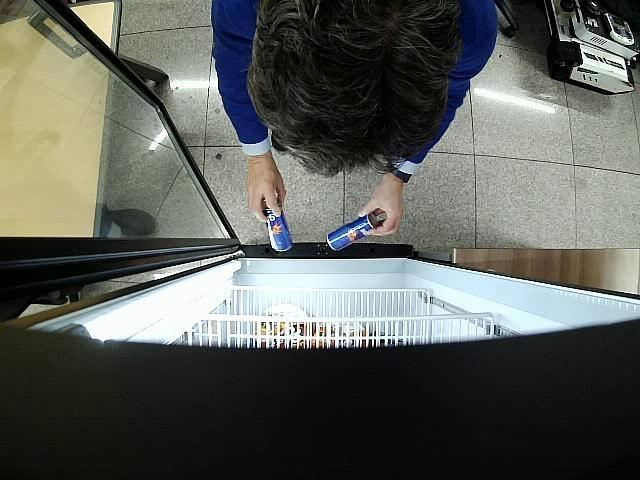16_hot6: (327, 212, 379, 252), (262, 200, 295, 252)
